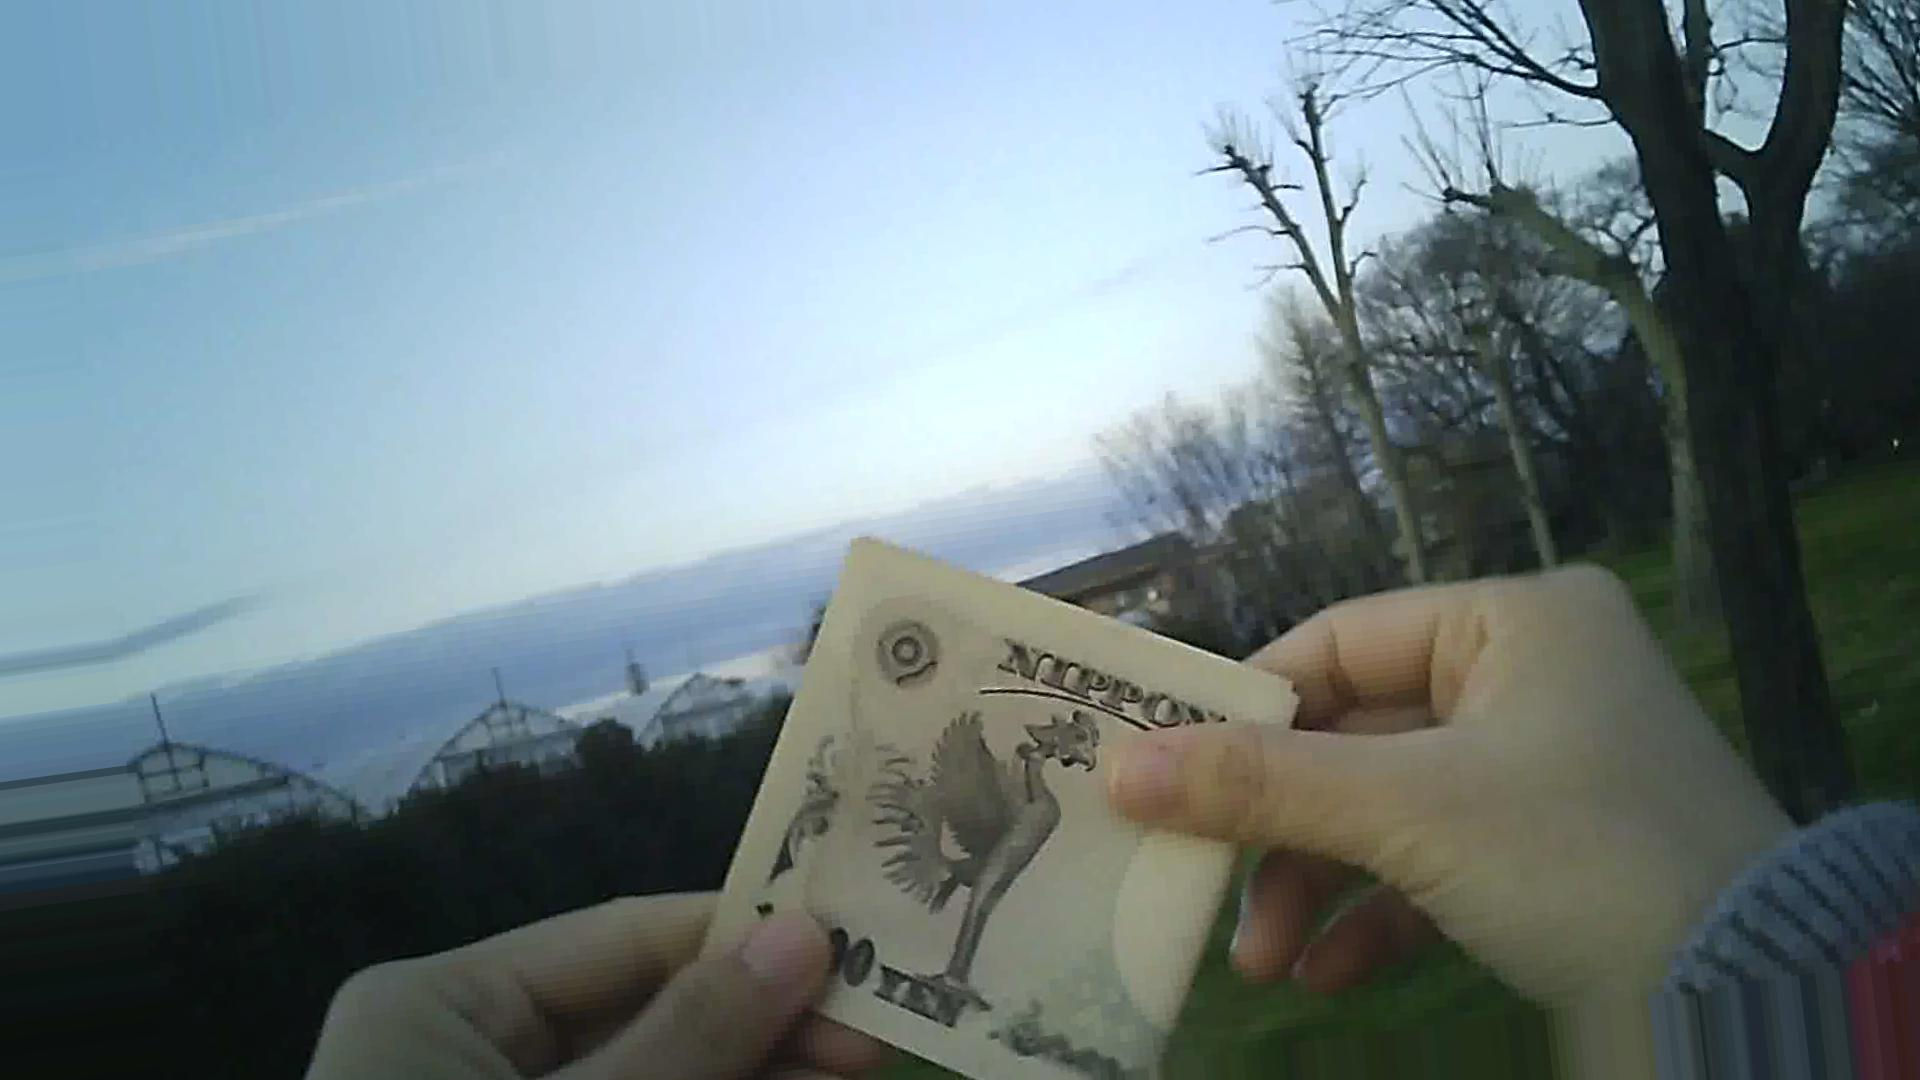10,000 Yen: (724, 541, 1261, 1077)
